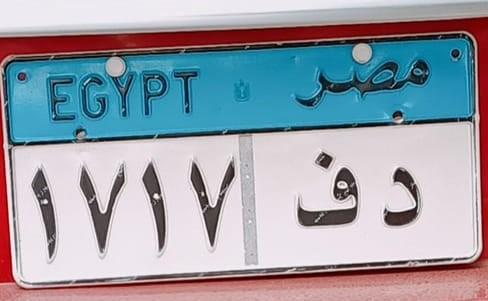1: (131, 157, 177, 261), (25, 161, 65, 265)
7: (185, 149, 238, 250), (73, 159, 126, 253)
daal: (372, 148, 427, 245)
faa: (288, 151, 361, 233)
